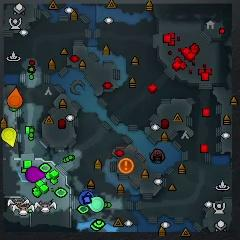Other: (118, 157, 134, 174)
p1: (79, 190, 95, 205)
p2: (88, 196, 104, 212)
p3: (25, 167, 45, 183)
p4: (1, 128, 17, 147)
p5: (7, 87, 23, 108)
